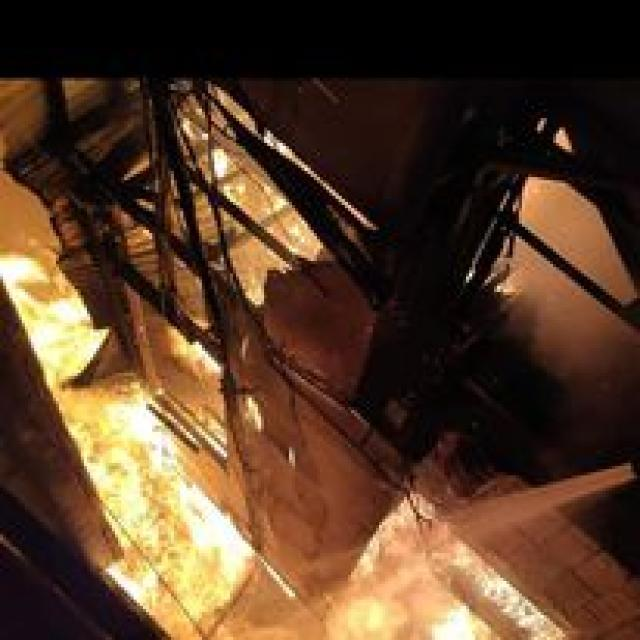Fire: (0, 280, 242, 614)
